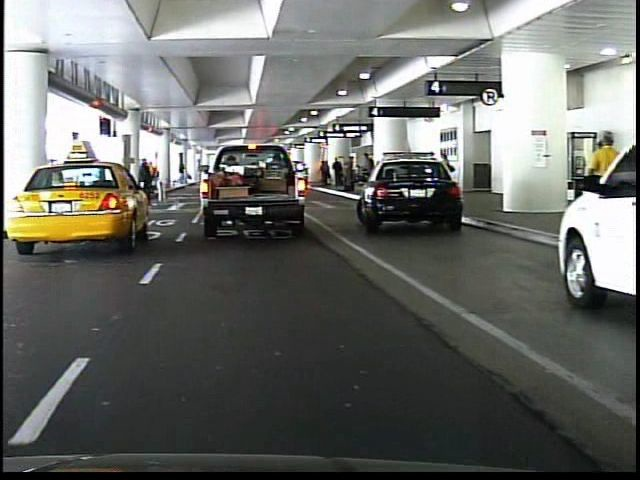person: (581, 124, 625, 251), (128, 155, 153, 216), (205, 149, 228, 202)
